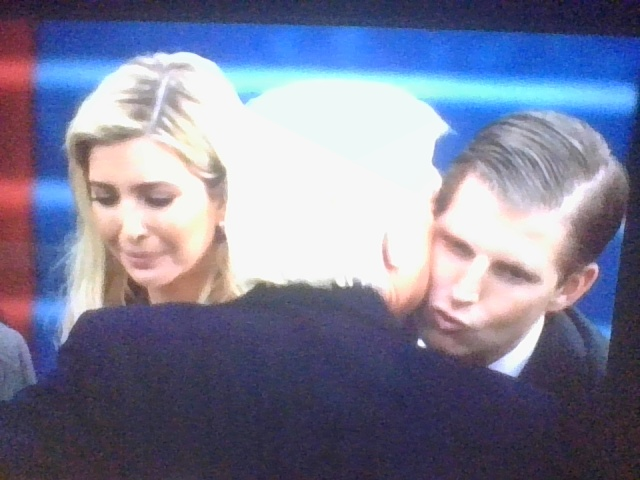fake: (409, 119, 581, 363), (74, 75, 239, 309)
